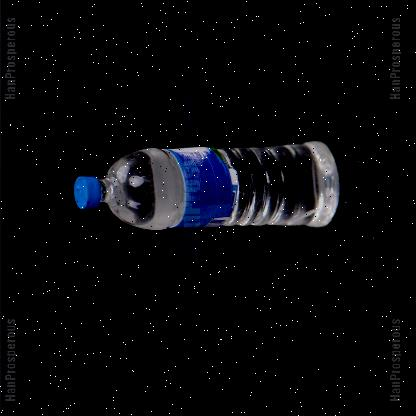Plastic Bottle: (74, 140, 340, 228)
